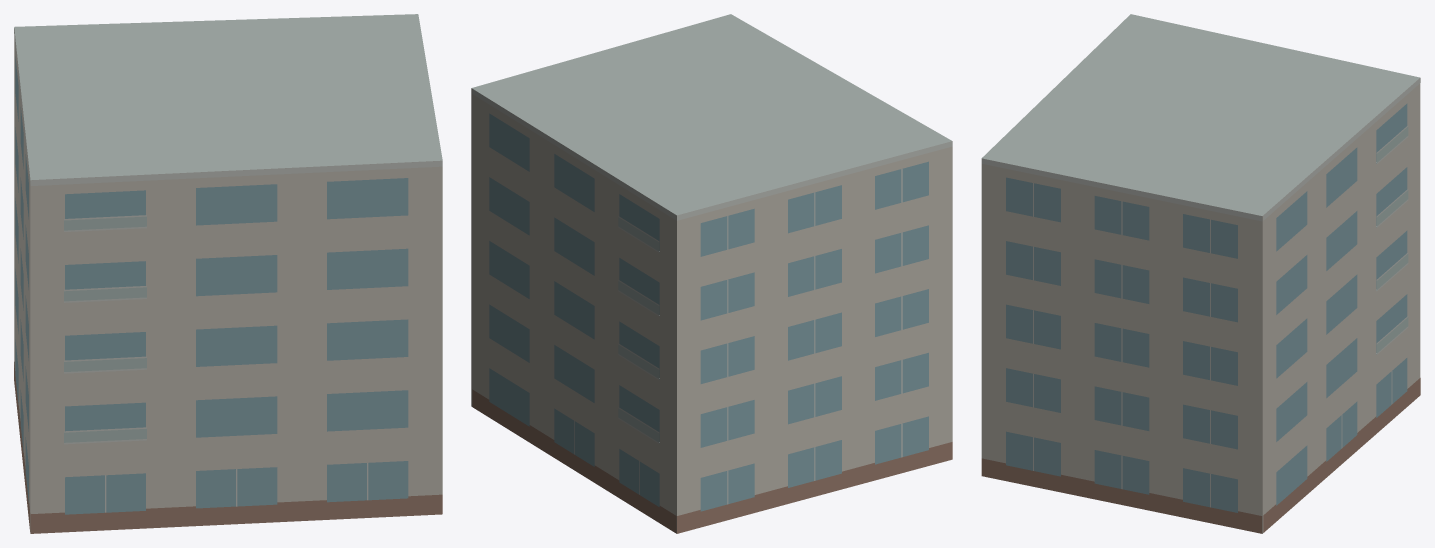
Rendered from survey-upis-32773688.glb.
The picture shows the model from 3 angles, left to right: view 1: azimuth 30°, elevation 25°; view 2: azimuth 150°, elevation 25°; view 3: azimuth 270°, elevation 25°; orthographic projection. The views are drawn at different scales.
Parts seen in each view (by area): view 1: survey-upis-32773688.tmp; view 2: survey-upis-32773688.tmp; view 3: survey-upis-32773688.tmp.
Part boxes in pixels (x1,y1,x2,y2): survey-upis-32773688.tmp: (14,14,442,533); survey-upis-32773688.tmp: (471,14,952,533); survey-upis-32773688.tmp: (981,14,1420,533).
Bounding box in the file's own units: 19.66 × 14.4 × 18.04.
